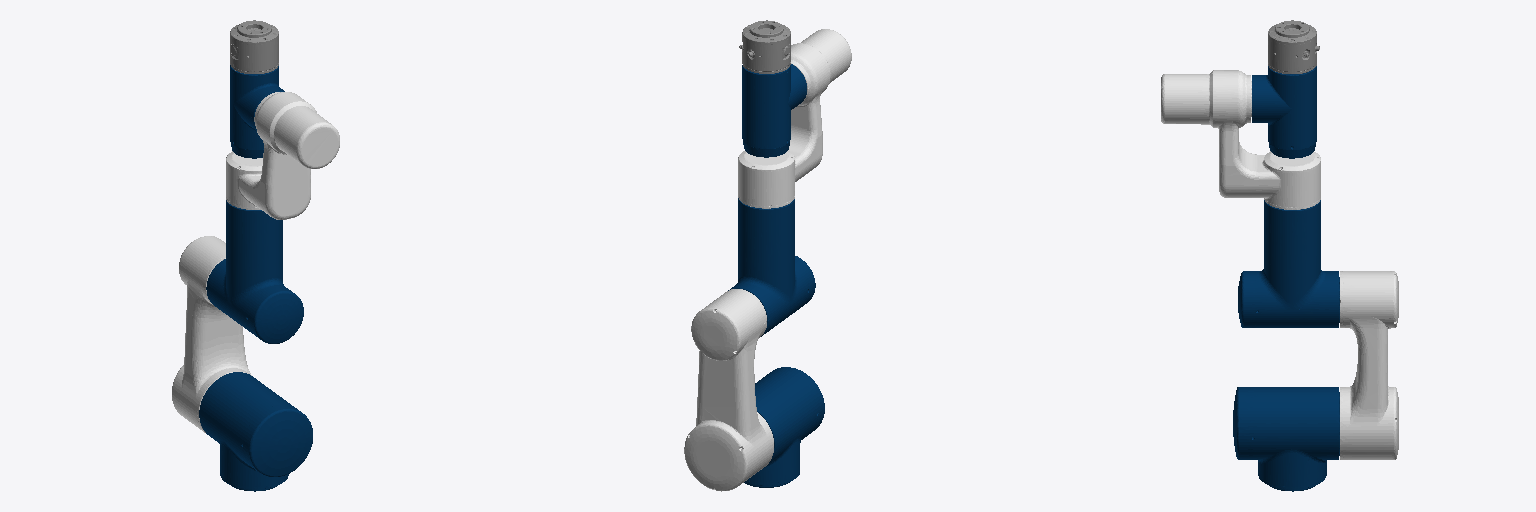
URDF robot description (yaro_0808):
<!-- generated by Phobos -->
<robot name="yaro_0808" version="1.0">
  <joint name="joint_1" type="revolute">
    <limit lower="-6.28318531" upper="6.28318531" effort="194.00000000" velocity="4.18879020"/>
    <origin rpy="0.00000000 0.00000000 0.00000000" xyz="0.00000000 0.00000000 0.19400000"/>
    <parent link="link_0"/>
    <child link="link_1"/>
    <axis xyz="0.00000000 0.00000000 1.00000000"/>
  </joint>
  <joint name="joint_2" type="revolute">
    <limit lower="-2.44346095" upper="2.44346095" effort="194.00000000" velocity="4.18879020"/>
    <origin rpy="-1.57079633 0.00000000 0.00000000" xyz="0.00000000 0.08200000 0.10950000"/>
    <parent link="link_1"/>
    <child link="link_2"/>
    <axis xyz="0.00000000 0.00000000 1.00000000"/>
  </joint>
  <joint name="joint_3" type="revolute">
    <limit lower="-2.44346095" upper="2.44346095" effort="102.00000000" velocity="8.37758041"/>
    <origin rpy="-3.14159265 0.00000000 0.00000000" xyz="0.00000000 -0.25000000 0.00000000"/>
    <parent link="link_2"/>
    <child link="link_3"/>
    <axis xyz="0.00000000 0.00000000 1.00000000"/>
  </joint>
  <joint name="joint_4" type="revolute">
    <limit lower="-6.28318531" upper="6.28318531" effort="34.00000000" velocity="7.33038286"/>
    <origin rpy="-1.57079633 0.00000000 0.00000000" xyz="0.00000000 0.19850000 0.08200000"/>
    <parent link="link_3"/>
    <child link="link_4"/>
    <axis xyz="0.00000000 0.00000000 1.00000000"/>
  </joint>
  <joint name="joint_5" type="revolute">
    <limit lower="-2.18166156" upper="2.18166156" effort="34.00000000" velocity="7.33038286"/>
    <origin rpy="-1.57079633 0.00000000 0.00000000" xyz="0.00000000 -0.07880000 0.20680000"/>
    <parent link="link_4"/>
    <child link="link_5"/>
    <axis xyz="0.00000000 0.00000000 1.00000000"/>
  </joint>
  <joint name="joint_6" type="revolute">
    <limit lower="-6.28318531" upper="6.28318531" effort="34.00000000" velocity="7.33038286"/>
    <origin rpy="1.57079633 0.00000000 0.00000000" xyz="0.00000000 -0.06420000 0.07880000"/>
    <parent link="link_5"/>
    <child link="link_6"/>
    <axis xyz="0.00000000 0.00000000 1.00000000"/>
  </joint>
  <joint name="ee_frame_joint" type="fixed">
    <origin rpy="0.00000000 0.00000000 0.00000000" xyz="-0.00000042 0.00053249 0.08050000"/>
    <parent link="link_6"/>
    <child link="ee_frame"/>
  </joint>
  <link name="link_0">
    <collision name="collision_link_0">
      <origin rpy="0.0000000000 0.0000000000 0.0000000000" xyz="0.0000000000 0.0000000000 0.0000000000"/>
      <geometry>
        <mesh filename="../meshes/stl/link_0_yaro_0808.stl" scale="1.0000000000 1.0000000000 1.0000000000"/>
      </geometry>
    </collision>
    <inertial>
      <inertia ixx="0.0314443343" ixy="-0.0000088148" ixz="-0.0000832899" iyy="0.0313285458" iyz="0.0000952385" izz="0.0173744820"/>
      <origin rpy="0.0000000000 0.0000000000 0.0000000000" xyz="-0.0002472277 0.0000857224 0.1116078879"/>
      <mass value="6.5744382186"/>
    </inertial>
    <visual name="visual_link_0">
      <material name="0c416cff"/>
      <origin rpy="0.0000000000 0.0000000000 0.0000000000" xyz="0.0000000000 0.0000000000 0.0000000000"/>
      <geometry>
        <mesh filename="../meshes/stl/link_0_yaro_0808.stl" scale="1.0000000000 1.0000000000 1.0000000000"/>
      </geometry>
    </visual>
  </link>
  <link name="link_1">
    <collision name="collision_link_1">
      <origin rpy="0.0000000000 0.0000000000 0.0000000000" xyz="0.0000000000 0.0000000000 0.0000000000"/>
      <geometry>
        <mesh filename="../meshes/stl/link_1_yaro_0808.stl" scale="1.0000000000 1.0000000000 1.0000000000"/>
      </geometry>
    </collision>
    <inertial>
      <inertia ixx="0.0252363090" ixy="0.0000676766" ixz="-0.0000234555" iyy="0.0187966475" iyz="-0.0012034971" izz="0.0192037564"/>
      <origin rpy="0.0000000000 0.0000000000 0.0000000000" xyz="0.0001686669 0.0132770512 0.0940533646"/>
      <mass value="6.2807403909"/>
    </inertial>
    <visual name="visual_link_1">
      <material name="0c416cff"/>
      <origin rpy="0.0000000000 0.0000000000 0.0000000000" xyz="0.0000000000 0.0000000000 0.0000000000"/>
      <geometry>
        <mesh filename="../meshes/stl/link_1_yaro_0808.stl" scale="1.0000000000 1.0000000000 1.0000000000"/>
      </geometry>
    </visual>
  </link>
  <link name="link_2">
    <collision name="collision_link_2">
      <origin rpy="0.0000000000 0.0000000000 0.0000000000" xyz="0.0000000000 0.0000000000 0.0000000000"/>
      <geometry>
        <mesh filename="../meshes/stl/link_2_yaro_0808.stl" scale="1.0000000000 1.0000000000 1.0000000000"/>
      </geometry>
    </collision>
    <inertial>
      <inertia ixx="0.0404221203" ixy="-0.0000042718" ixz="0.0000000332" iyy="0.0075292840" iyz="0.0010613420" izz="0.0401991347"/>
      <origin rpy="0.0000000000 0.0000000000 0.0000000000" xyz="0.0000002381 -0.1013653783 0.0458678918"/>
      <mass value="2.6453920987"/>
    </inertial>
    <visual name="visual_link_2">
      <material name="e6e6e6ff"/>
      <origin rpy="0.0000000000 0.0000000000 0.0000000000" xyz="0.0000000000 0.0000000000 0.0000000000"/>
      <geometry>
        <mesh filename="../meshes/stl/link_2_yaro_0808.stl" scale="1.0000000000 1.0000000000 1.0000000000"/>
      </geometry>
    </visual>
  </link>
  <link name="link_3">
    <collision name="collision_link_3">
      <origin rpy="0.0000000000 0.0000000000 0.0000000000" xyz="0.0000000000 0.0000000000 0.0000000000"/>
      <geometry>
        <mesh filename="../meshes/stl/link_3_yaro_0808.stl" scale="1.0000000000 1.0000000000 1.0000000000"/>
      </geometry>
    </collision>
    <inertial>
      <inertia ixx="0.0391600181" ixy="-0.0000108122" ixz="0.0000293944" iyy="0.0115023411" iyz="-0.0041889303" izz="0.0338644663"/>
      <origin rpy="0.0000000000 0.0000000000 0.0000000000" xyz="-0.0001755811 0.0575483524 0.0675893437"/>
      <mass value="5.0875863896"/>
    </inertial>
    <visual name="visual_link_3">
      <material name="0c416cff"/>
      <origin rpy="0.0000000000 0.0000000000 0.0000000000" xyz="0.0000000000 0.0000000000 0.0000000000"/>
      <geometry>
        <mesh filename="../meshes/stl/link_3_yaro_0808.stl" scale="1.0000000000 1.0000000000 1.0000000000"/>
      </geometry>
    </visual>
  </link>
  <link name="link_4">
    <collision name="collision_link_4">
      <origin rpy="0.0000000000 0.0000000000 0.0000000000" xyz="0.0000000000 0.0000000000 0.0000000000"/>
      <geometry>
        <mesh filename="../meshes/stl/link_4_yaro_0808.stl" scale="1.0000000000 1.0000000000 1.0000000000"/>
      </geometry>
    </collision>
    <inertial>
      <inertia ixx="0.0314665408" ixy="0.0000311580" ixz="-0.0000244610" iyy="0.0211333184" iyz="0.0112468888" izz="0.0143821819"/>
      <origin rpy="0.0000000000 0.0000000000 0.0000000000" xyz="0.0001608955 -0.0996055822 0.1503422793"/>
      <mass value="2.9363352383"/>
    </inertial>
    <visual name="visual_link_4">
      <material name="eaeaeaff"/>
      <origin rpy="0.0000000000 0.0000000000 0.0000000000" xyz="0.0000000000 0.0000000000 0.0000000000"/>
      <geometry>
        <mesh filename="../meshes/stl/link_4_yaro_0808.stl" scale="1.0000000000 1.0000000000 1.0000000000"/>
      </geometry>
    </visual>
  </link>
  <link name="link_5">
    <collision name="collision_link_5">
      <origin rpy="0.0000000000 0.0000000000 0.0000000000" xyz="0.0000000000 0.0000000000 0.0000000000"/>
      <geometry>
        <mesh filename="../meshes/stl/link_5_yaro_0808.stl" scale="1.0000000000 1.0000000000 1.0000000000"/>
      </geometry>
    </collision>
    <inertial>
      <inertia ixx="0.0049110143" ixy="0.0000165183" ixz="0.0000080374" iyy="0.0032522222" iyz="0.0001501622" izz="0.0037408756"/>
      <origin rpy="0.0000000000 0.0000000000 0.0000000000" xyz="-0.0001869805 -0.0059841413 0.0657953515"/>
      <mass value="2.1546788416"/>
    </inertial>
    <visual name="visual_link_5">
      <material name="0c416cff"/>
      <origin rpy="0.0000000000 0.0000000000 0.0000000000" xyz="0.0000000000 0.0000000000 0.0000000000"/>
      <geometry>
        <mesh filename="../meshes/stl/link_5_yaro_0808.stl" scale="1.0000000000 1.0000000000 1.0000000000"/>
      </geometry>
    </visual>
  </link>
  <link name="link_6">
    <collision name="collision_link_6">
      <origin rpy="0.0000000000 0.0000000000 0.0000000000" xyz="0.0000000000 0.0000000000 0.0000000000"/>
      <geometry>
        <mesh filename="../meshes/stl/link_6_yaro_0808.stl" scale="1.0000000000 1.0000000000 1.0000000000"/>
      </geometry>
    </collision>
    <inertial>
      <inertia ixx="0.0008539561" ixy="-0.0000152881" ixz="0.0000034244" iyy="0.0008585947" iyz="-0.0000106343" izz="0.0008192674"/>
      <origin rpy="0.0000000000 0.0000000000 0.0000000000" xyz="0.0002663237 0.0003088006 0.0373037327"/>
      <mass value="0.7156311736"/>
    </inertial>
    <visual name="visual_link_6">
      <material name="999999ff"/>
      <origin rpy="0.0000000000 0.0000000000 0.0000000000" xyz="0.0000000000 0.0000000000 0.0000000000"/>
      <geometry>
        <mesh filename="../meshes/stl/link_6_yaro_0808.stl" scale="1.0000000000 1.0000000000 1.0000000000"/>
      </geometry>
    </visual>
  </link>
  <link name="ee_frame"/>
  <material name="0c416cff">
    <color rgba="0.0470588235 0.2549019608 0.4235294118 1.0000000000"/>
  </material>
  <material name="999999ff">
    <color rgba="0.6000000000 0.6000000000 0.6000000000 1.0000000000"/>
  </material>
  <material name="e6e6e6ff">
    <color rgba="0.9019607843 0.9019607843 0.9019607843 1.0000000000"/>
  </material>
  <material name="eaeaeaff">
    <color rgba="0.9176470588 0.9176470588 0.9176470588 1.0000000000"/>
  </material>
</robot>

--- Facts derived from the render (not from the file) ---
The picture shows the robot from 3 angles, left to right: view 1: azimuth 30°, elevation 25°; view 2: azimuth 150°, elevation 25°; view 3: azimuth 270°, elevation 25°; orthographic projection.
Model yaro_0808 with 8 links and 7 joints (6 revolute, 1 fixed), rooted at link_0, posed every joint at zero.
Links seen in each view (by area): view 1: link_1, link_4, link_3, link_2, link_5, link_6; view 2: link_2, link_4, link_3, link_1, link_5, link_6; view 3: link_4, link_1, link_2, link_3, link_5, link_6.
Link boxes in pixels (bbox=[...]): link_1: bbox=[199, 372, 312, 491]; link_4: bbox=[226, 92, 339, 219]; link_3: bbox=[206, 200, 303, 343]; link_2: bbox=[172, 236, 251, 432]; link_5: bbox=[230, 65, 284, 158]; link_6: bbox=[230, 20, 278, 73]; link_2: bbox=[684, 289, 773, 491]; link_4: bbox=[738, 29, 851, 208]; link_3: bbox=[728, 198, 815, 336]; link_1: bbox=[744, 367, 824, 487]; link_5: bbox=[742, 64, 806, 157]; link_6: bbox=[739, 20, 790, 73]; link_4: bbox=[1161, 70, 1320, 209]; link_1: bbox=[1233, 387, 1339, 491]; link_2: bbox=[1340, 271, 1398, 459]; link_3: bbox=[1238, 200, 1339, 327]; link_5: bbox=[1252, 66, 1316, 158]; link_6: bbox=[1268, 20, 1319, 73].
Bounding box of the posed robot: 0.1352 × 0.4357 × 0.9146 m (x, y, z).
6 mesh visuals loaded from 7 distinct referenced files (6 binary STL); not drawn: 1 (reference not matched to a file when rendering).
